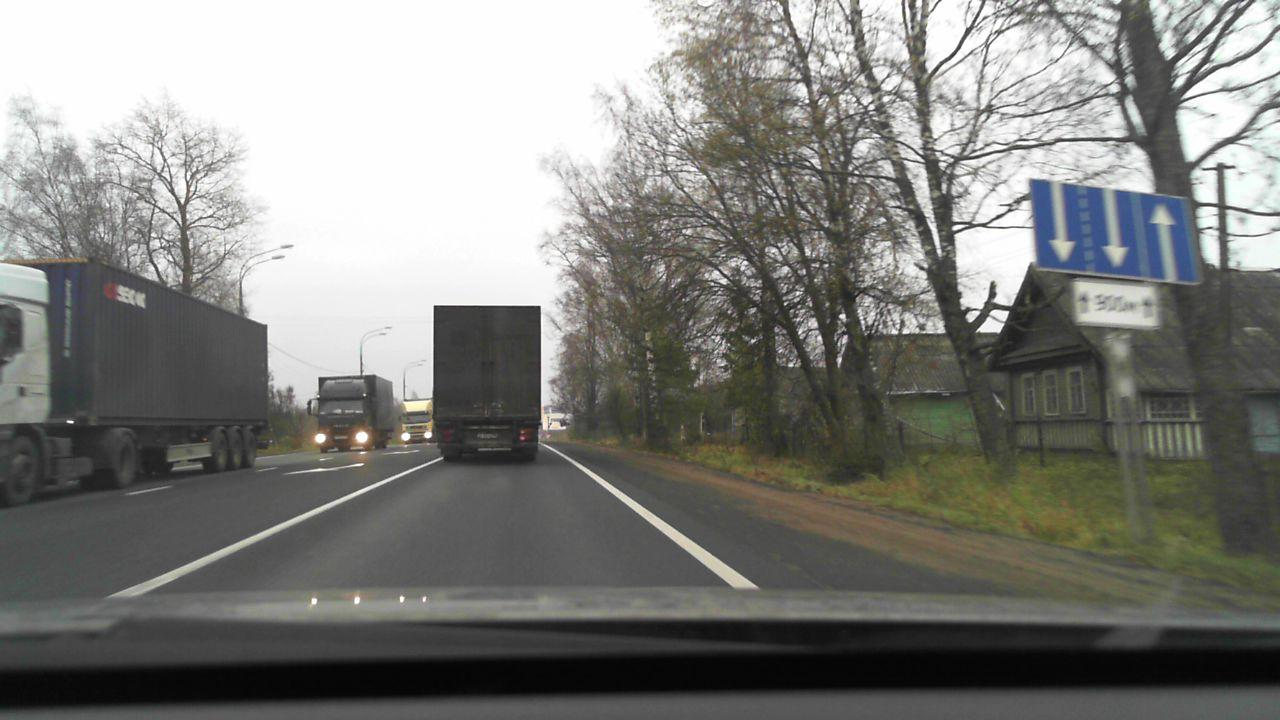5_15_7: (1030, 181, 1203, 286)
8_2_1: (1073, 280, 1164, 327)
